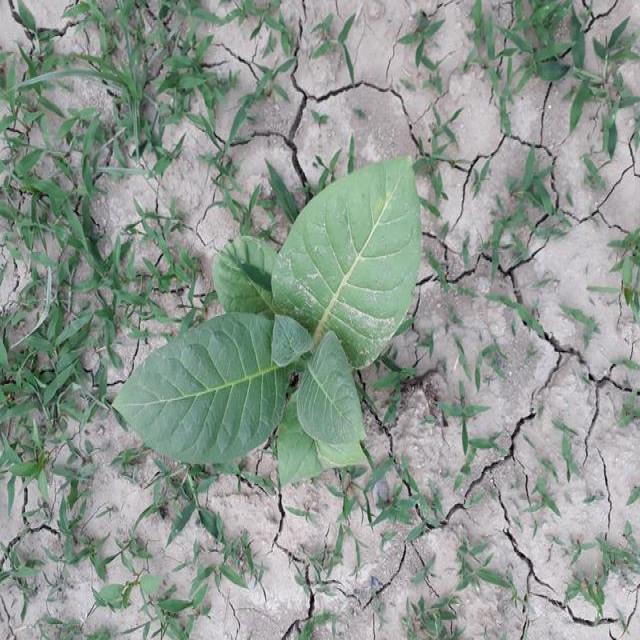crop: (128, 165, 426, 474)
